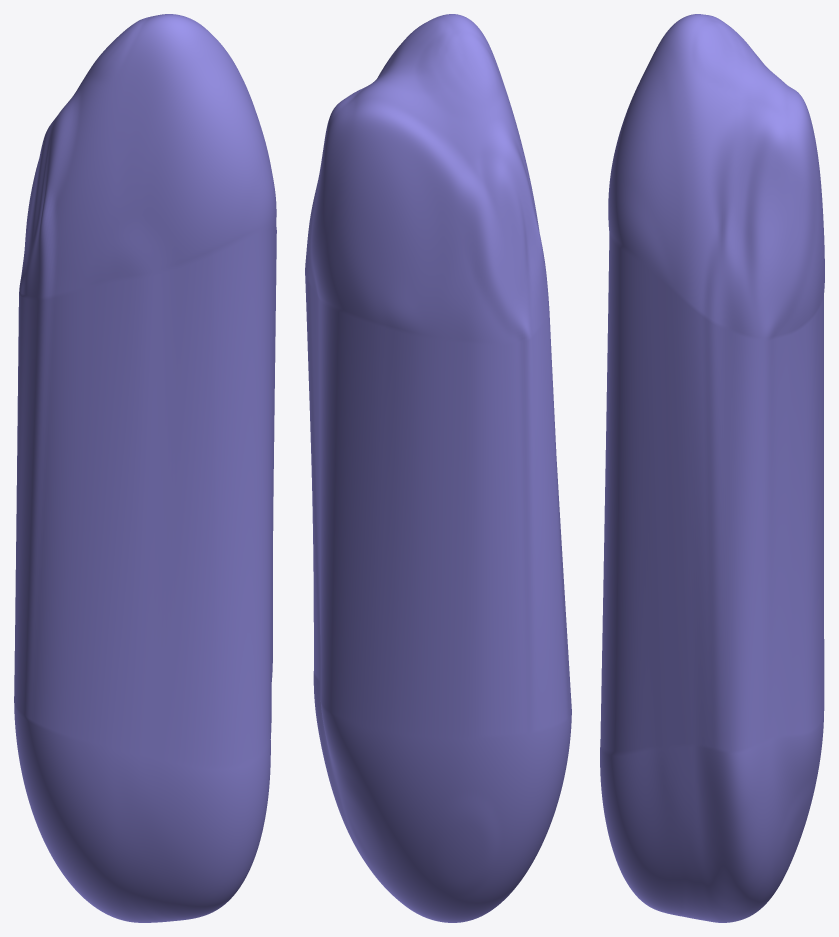
The model's file is seed2.fbx.
3 views of the same model, side by side, from view 1: azimuth 30°, elevation 25°; view 2: azimuth 150°, elevation 25°; view 3: azimuth 270°, elevation 25° (orthographic). The views are drawn at different scales.
Parts seen in each view (by area): view 1: Cylinder.001; view 2: Cylinder.001; view 3: Cylinder.001.
Part boxes in pixels (left/top/right/bottom): Cylinder.001: left=14, top=14, right=276, bottom=922; Cylinder.001: left=305, top=14, right=571, bottom=922; Cylinder.001: left=600, top=14, right=824, bottom=922.
Bounding box in the file's own units: 25.51 × 88.47 × 20.
